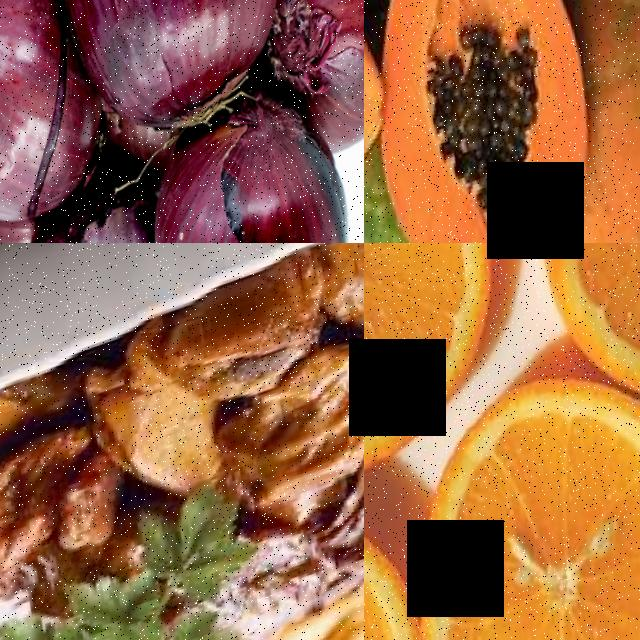onion: (18, 0, 334, 169), (124, 77, 364, 243), (0, 0, 138, 240), (236, 0, 364, 181), (0, 177, 227, 243)
orange: (373, 365, 640, 640), (364, 243, 560, 529), (476, 243, 640, 454)
pawpaw: (364, 0, 640, 243), (528, 0, 640, 243), (364, 0, 437, 243)
